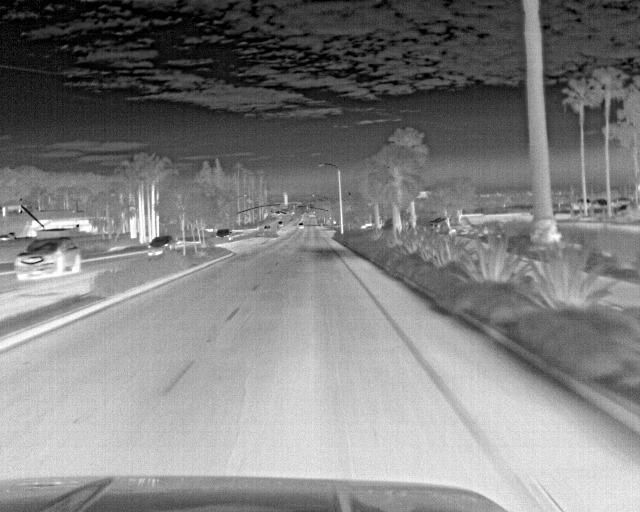car: (12, 235, 81, 281), (146, 236, 175, 256), (212, 226, 233, 243)
